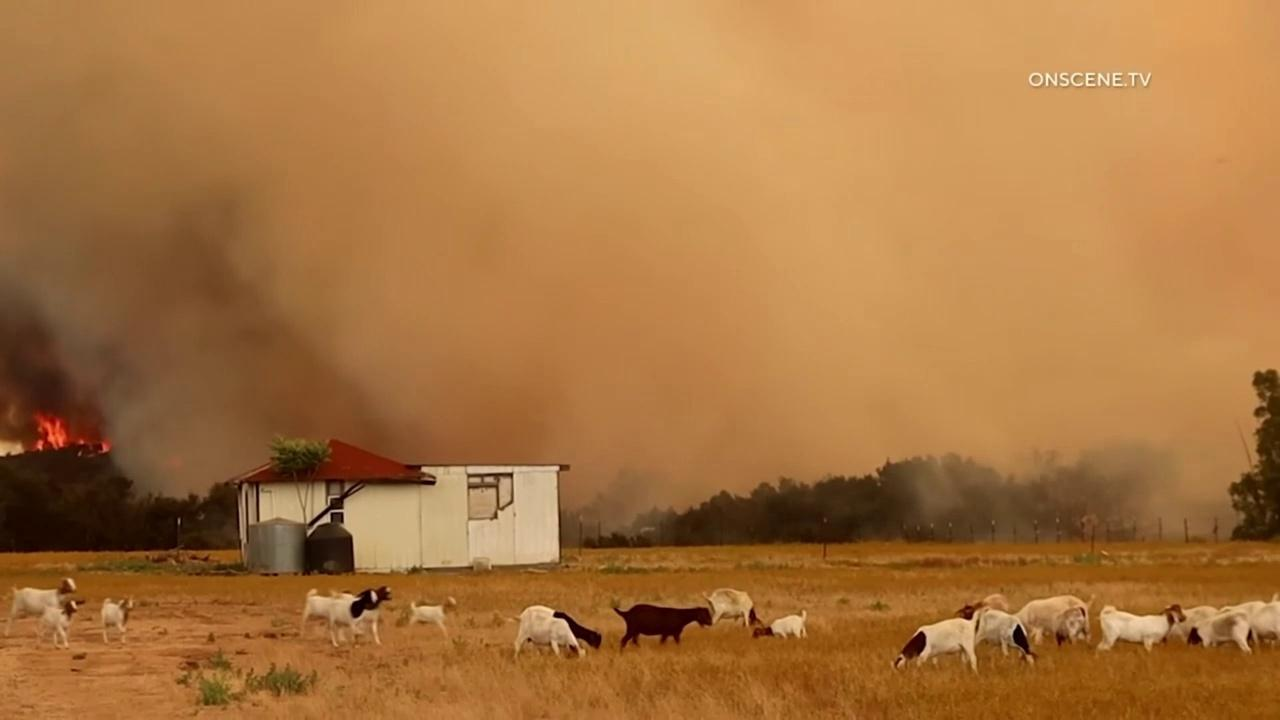fire: (34, 413, 69, 452), (97, 440, 111, 454), (78, 438, 84, 445)
smoke: (0, 0, 1280, 542)
